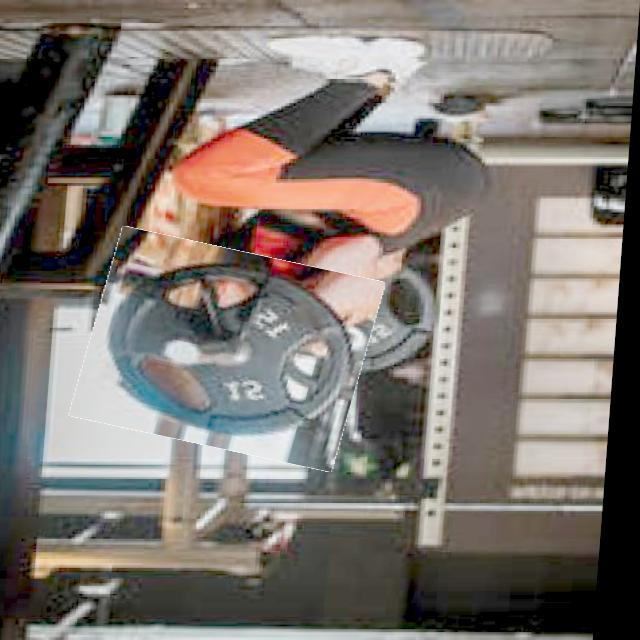barbell: (82, 240, 384, 460)
